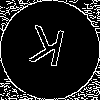K: (25, 25, 67, 77)
